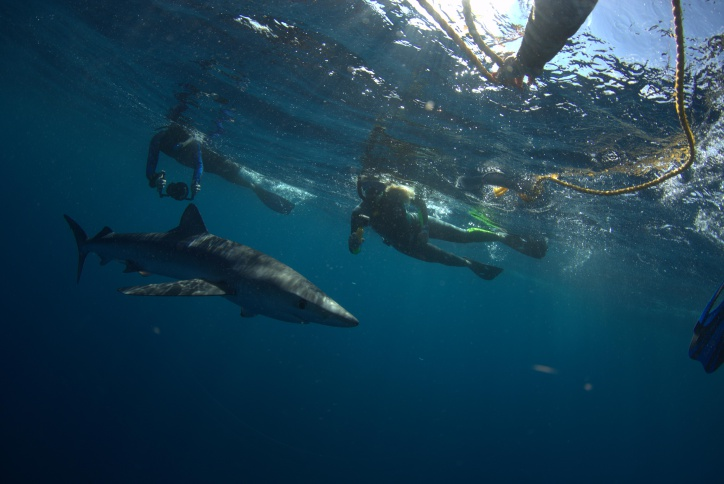Azul: (62, 198, 377, 354)
